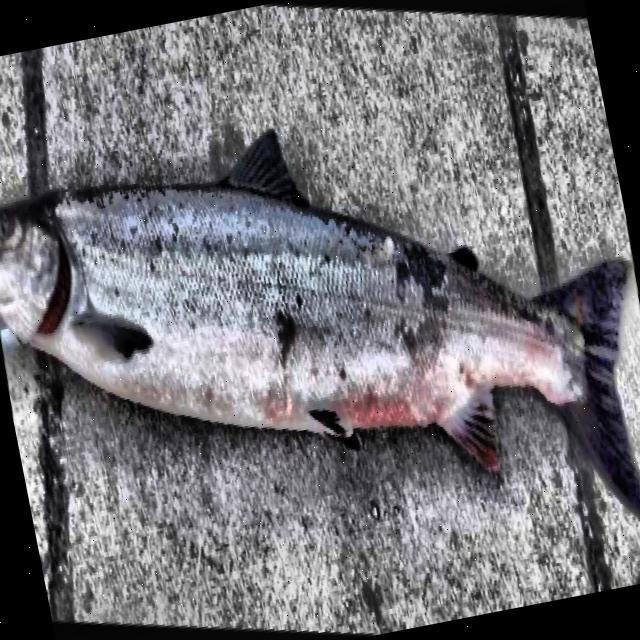mild_red: (28, 176, 585, 427)
wound: (40, 252, 69, 335)
